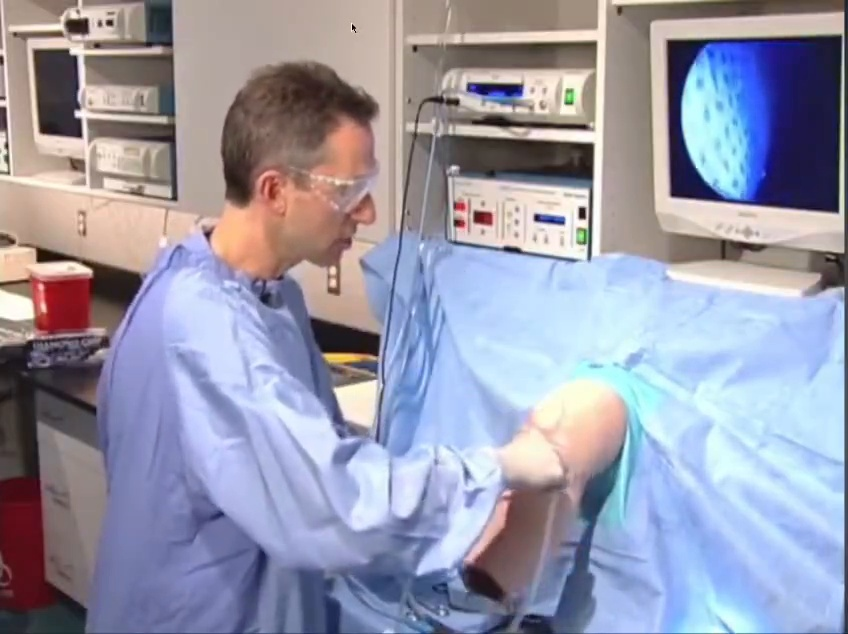probe: (680, 581, 763, 634), (151, 559, 203, 628)
